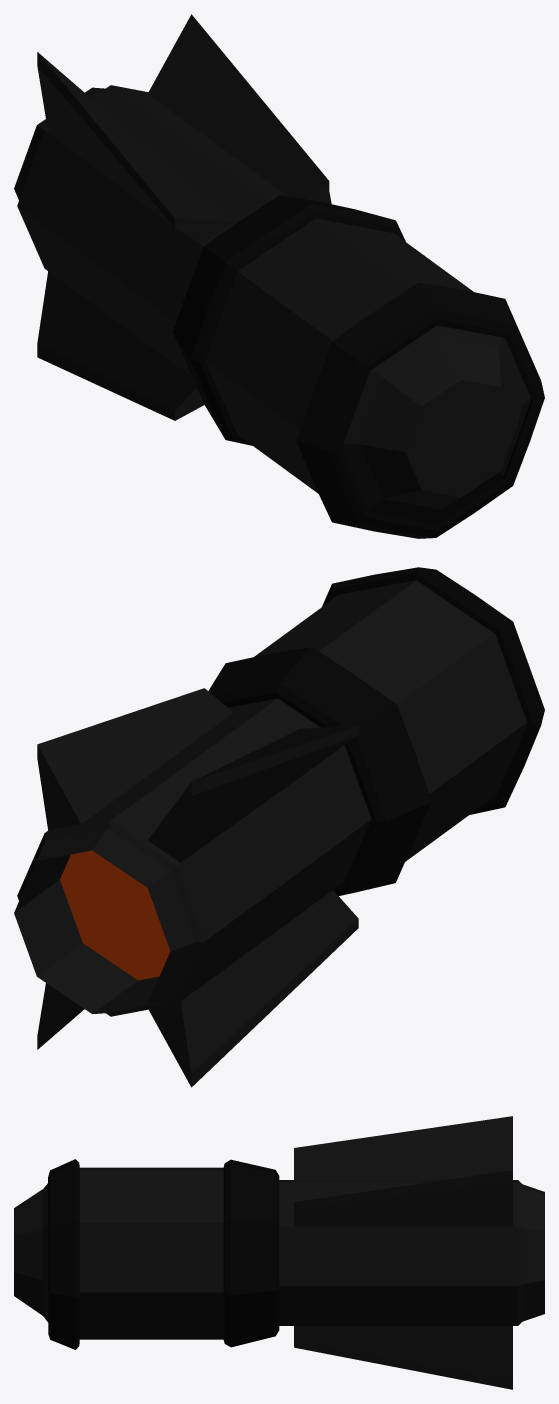
Rendered from Bullet_RocketLauncher.fbx.
3 renders of one model, top to bottom at view 1: azimuth 30°, elevation 25°; view 2: azimuth 150°, elevation 25°; view 3: azimuth 270°, elevation 25°, orthographic. The views are drawn at different scales.
Parts seen in each view (by area): view 1: Bullet_RocketLauncher; view 2: Bullet_RocketLauncher; view 3: Bullet_RocketLauncher.
Part boxes in pixels (x1,y1,x2,y2): Bullet_RocketLauncher: (14, 14, 544, 538); Bullet_RocketLauncher: (14, 567, 544, 1087); Bullet_RocketLauncher: (14, 1116, 544, 1389).
Bounding box in the file's own units: 15.19 × 18.11 × 39.66.
